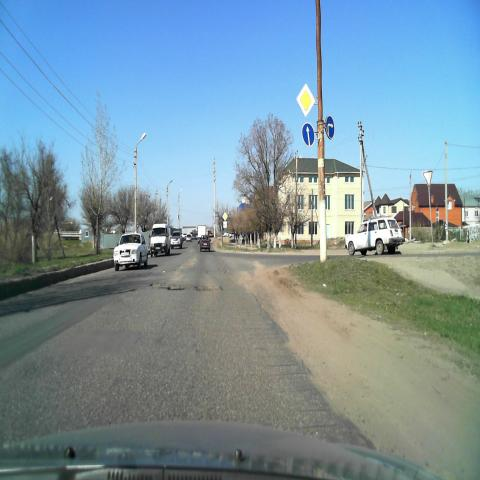4_1_2: (325, 113, 335, 142)
